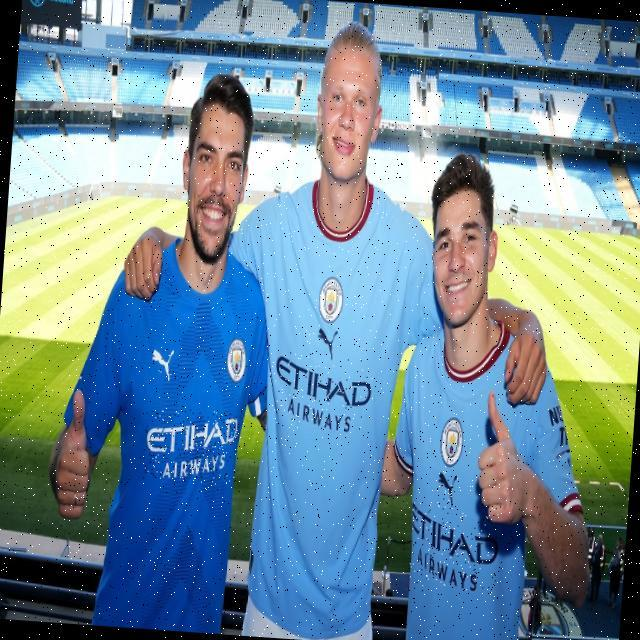Etihad Airways: (406, 500, 501, 596), (270, 351, 376, 434), (142, 407, 240, 486)
Puma: (150, 348, 174, 383), (436, 470, 457, 508), (316, 327, 338, 362)
